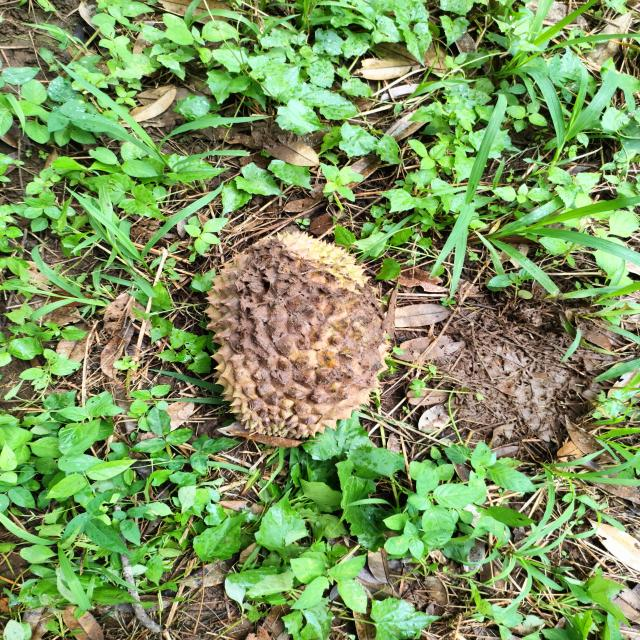defective: (202, 229, 393, 443)
